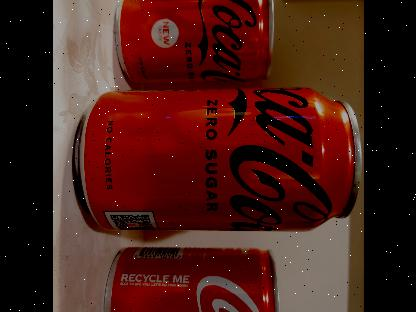Can: (73, 86, 362, 232), (115, 0, 276, 84), (105, 246, 281, 312)
